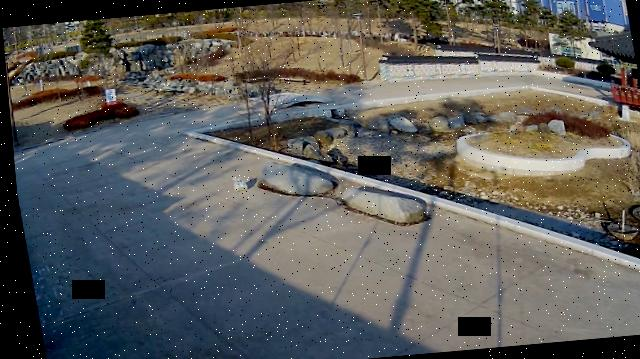trash: (228, 176, 246, 191)
